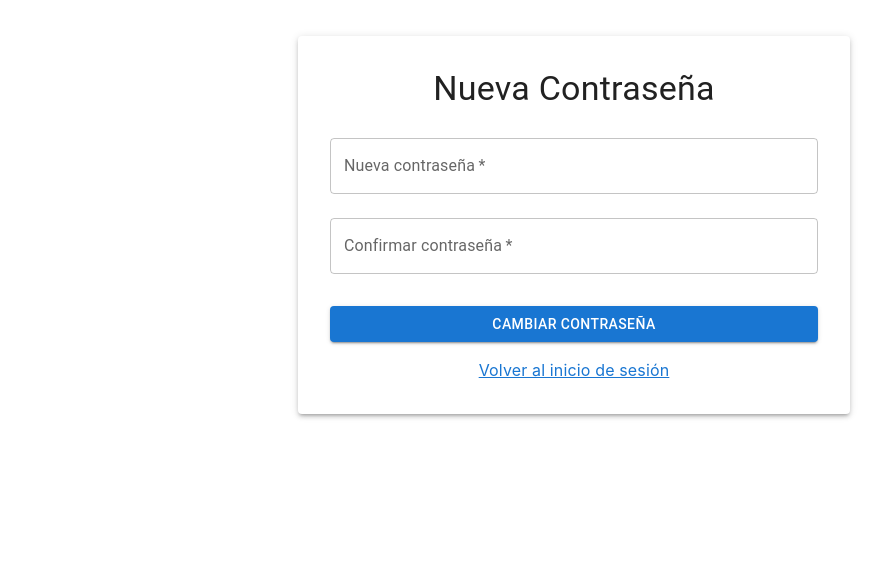
Test case: ResetPage › con token › envía el token y la nueva contraseña a la API
This screenshot has width=870, height=585.
Type "nueva-pass" into the password field labelled "Nueva contraseña *" at (574, 166), box [330,138,818,194]
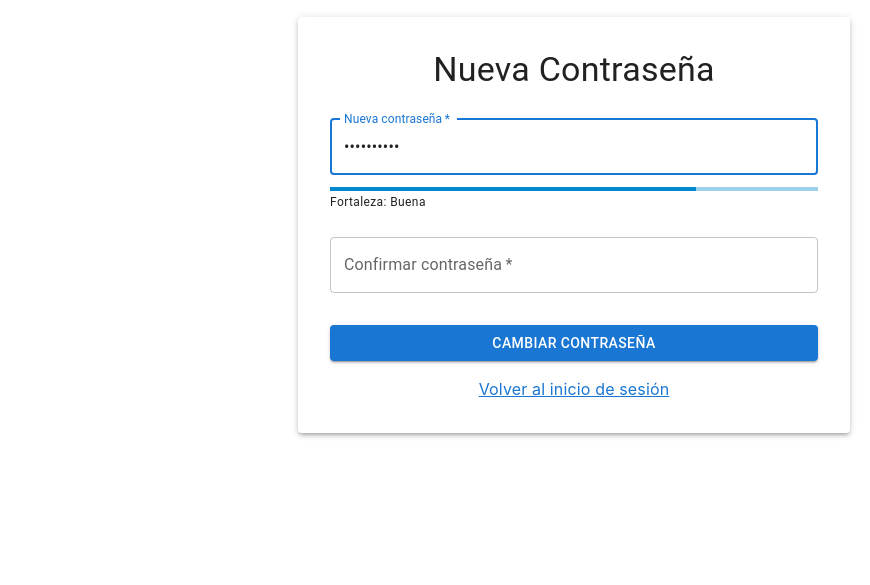
Type "nueva-pass" into the password field labelled "Confirmar contraseña *" at (574, 265), box [330,237,818,293]
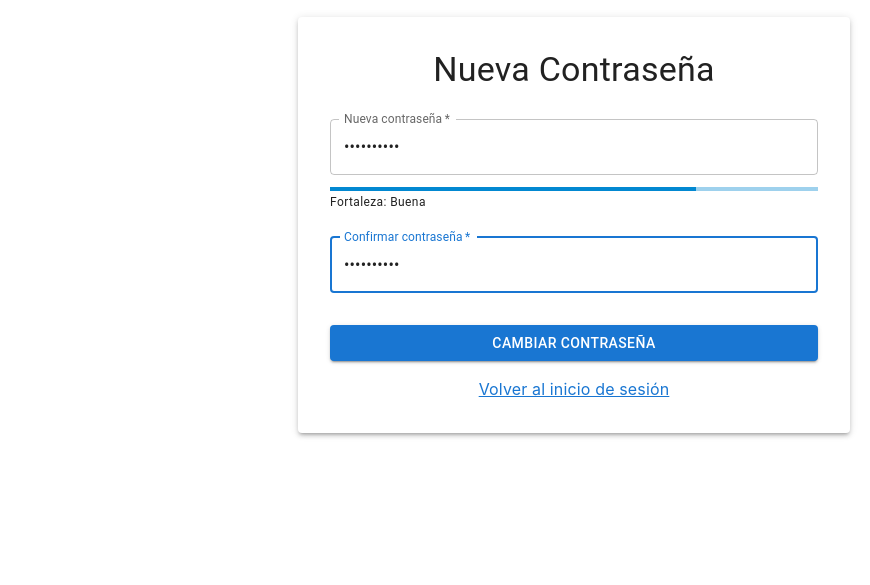
Click the button "Cambiar contraseña" at (574, 343), box [330,325,818,361]
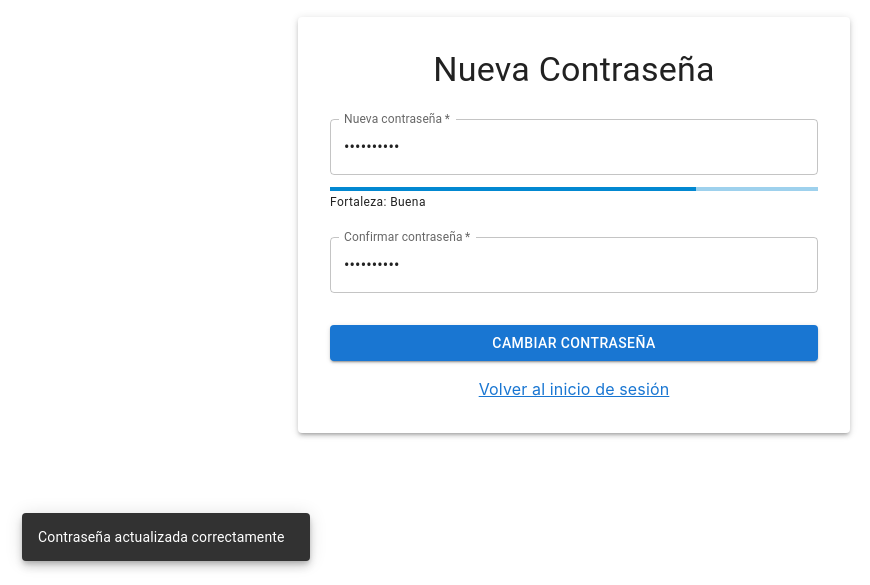
Now the text "Contraseña actualizada correctamente" is shown, box [38,529,285,545]
